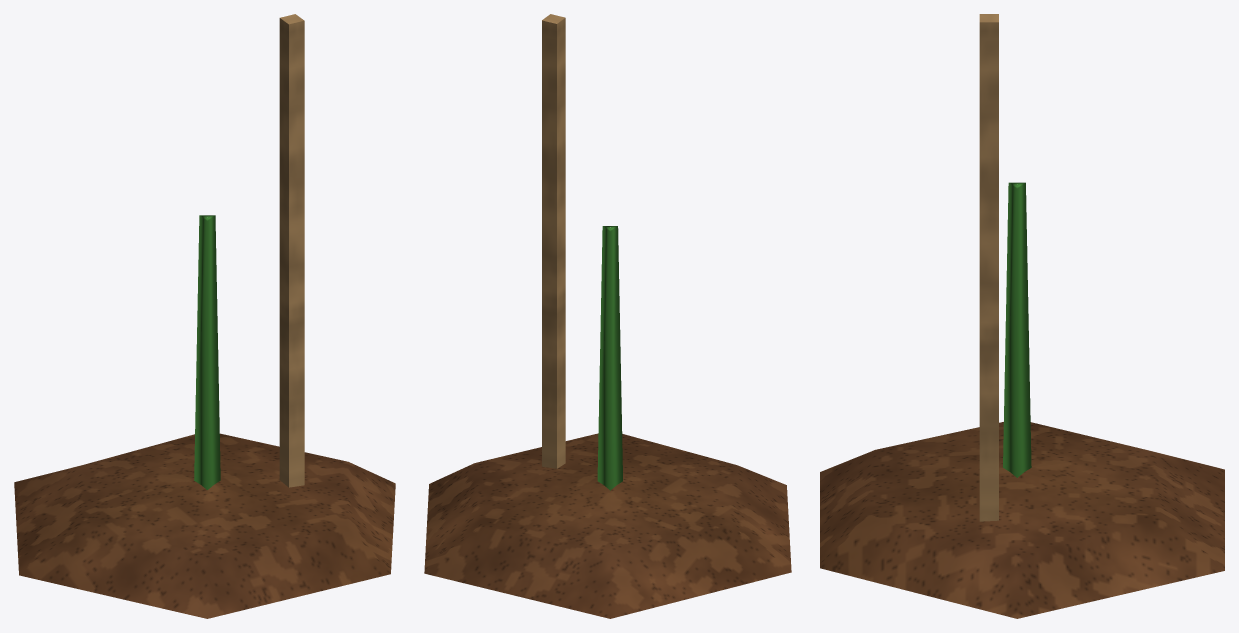
File: plant-tomato-4-far.glb
3 views of the same model, side by side, from view 1: azimuth 30°, elevation 25°; view 2: azimuth 150°, elevation 25°; view 3: azimuth 270°, elevation 25° (orthographic). The views are drawn at different scales.
Parts seen in each view (by area): view 1: plant-tomato-4-far; view 2: plant-tomato-4-far; view 3: plant-tomato-4-far.
Boxes of the visible parts, x1,y1,x2,y2 form: plant-tomato-4-far: (14, 14, 395, 618); plant-tomato-4-far: (424, 14, 791, 618); plant-tomato-4-far: (820, 14, 1224, 618).
Size of the model in its own units: 0.84 by 1.07 by 0.7275.
Materials: 4 (2 with a texture image).
